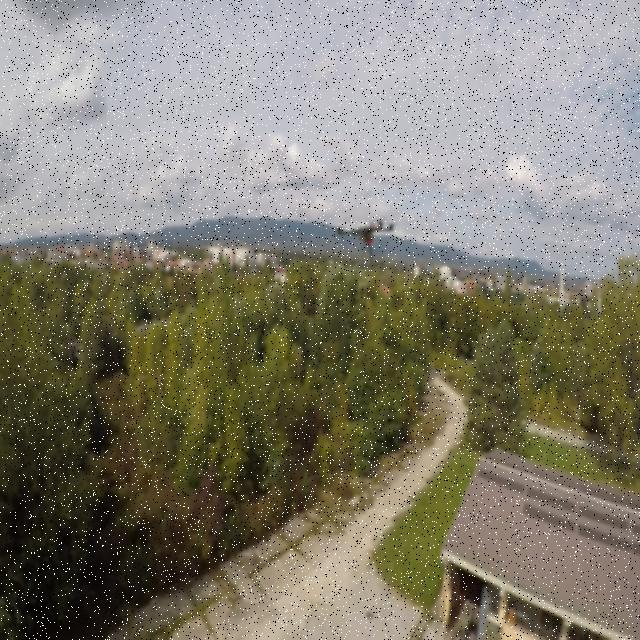UAV: (334, 209, 398, 271)
